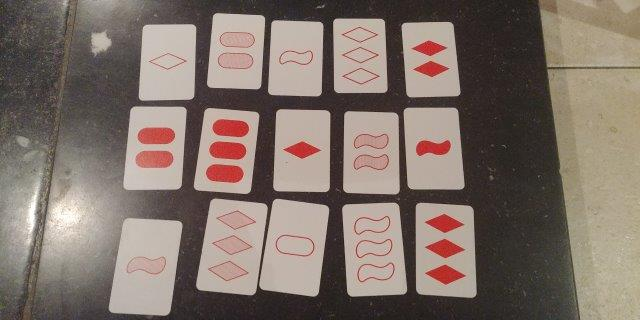1ED: (144, 25, 192, 97)
1EP: (272, 206, 319, 289)
1EW: (271, 23, 319, 92)
1FD: (279, 112, 326, 189)
1FW: (409, 109, 456, 187)
1HW: (123, 225, 171, 307)
2FD: (407, 24, 452, 93)
2FP: (131, 109, 179, 186)
2HP: (212, 16, 259, 86)
2HW: (347, 115, 396, 191)
3ED: (335, 20, 383, 90)
3EW: (348, 205, 399, 293)
3FD: (420, 206, 471, 292)
3FP: (203, 112, 251, 189)
3HD: (208, 204, 255, 288)
